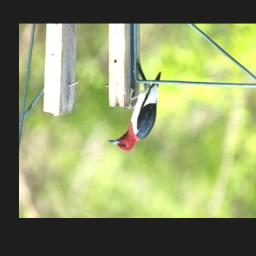Woodpecker: (107, 71, 161, 152)
